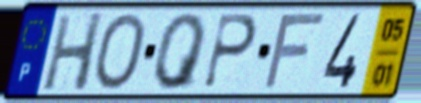4: (321, 12, 365, 91)
F: (260, 10, 330, 93)
H: (40, 9, 107, 94)
O: (91, 11, 148, 93)
P: (200, 12, 260, 92)
Q: (152, 11, 209, 93)
